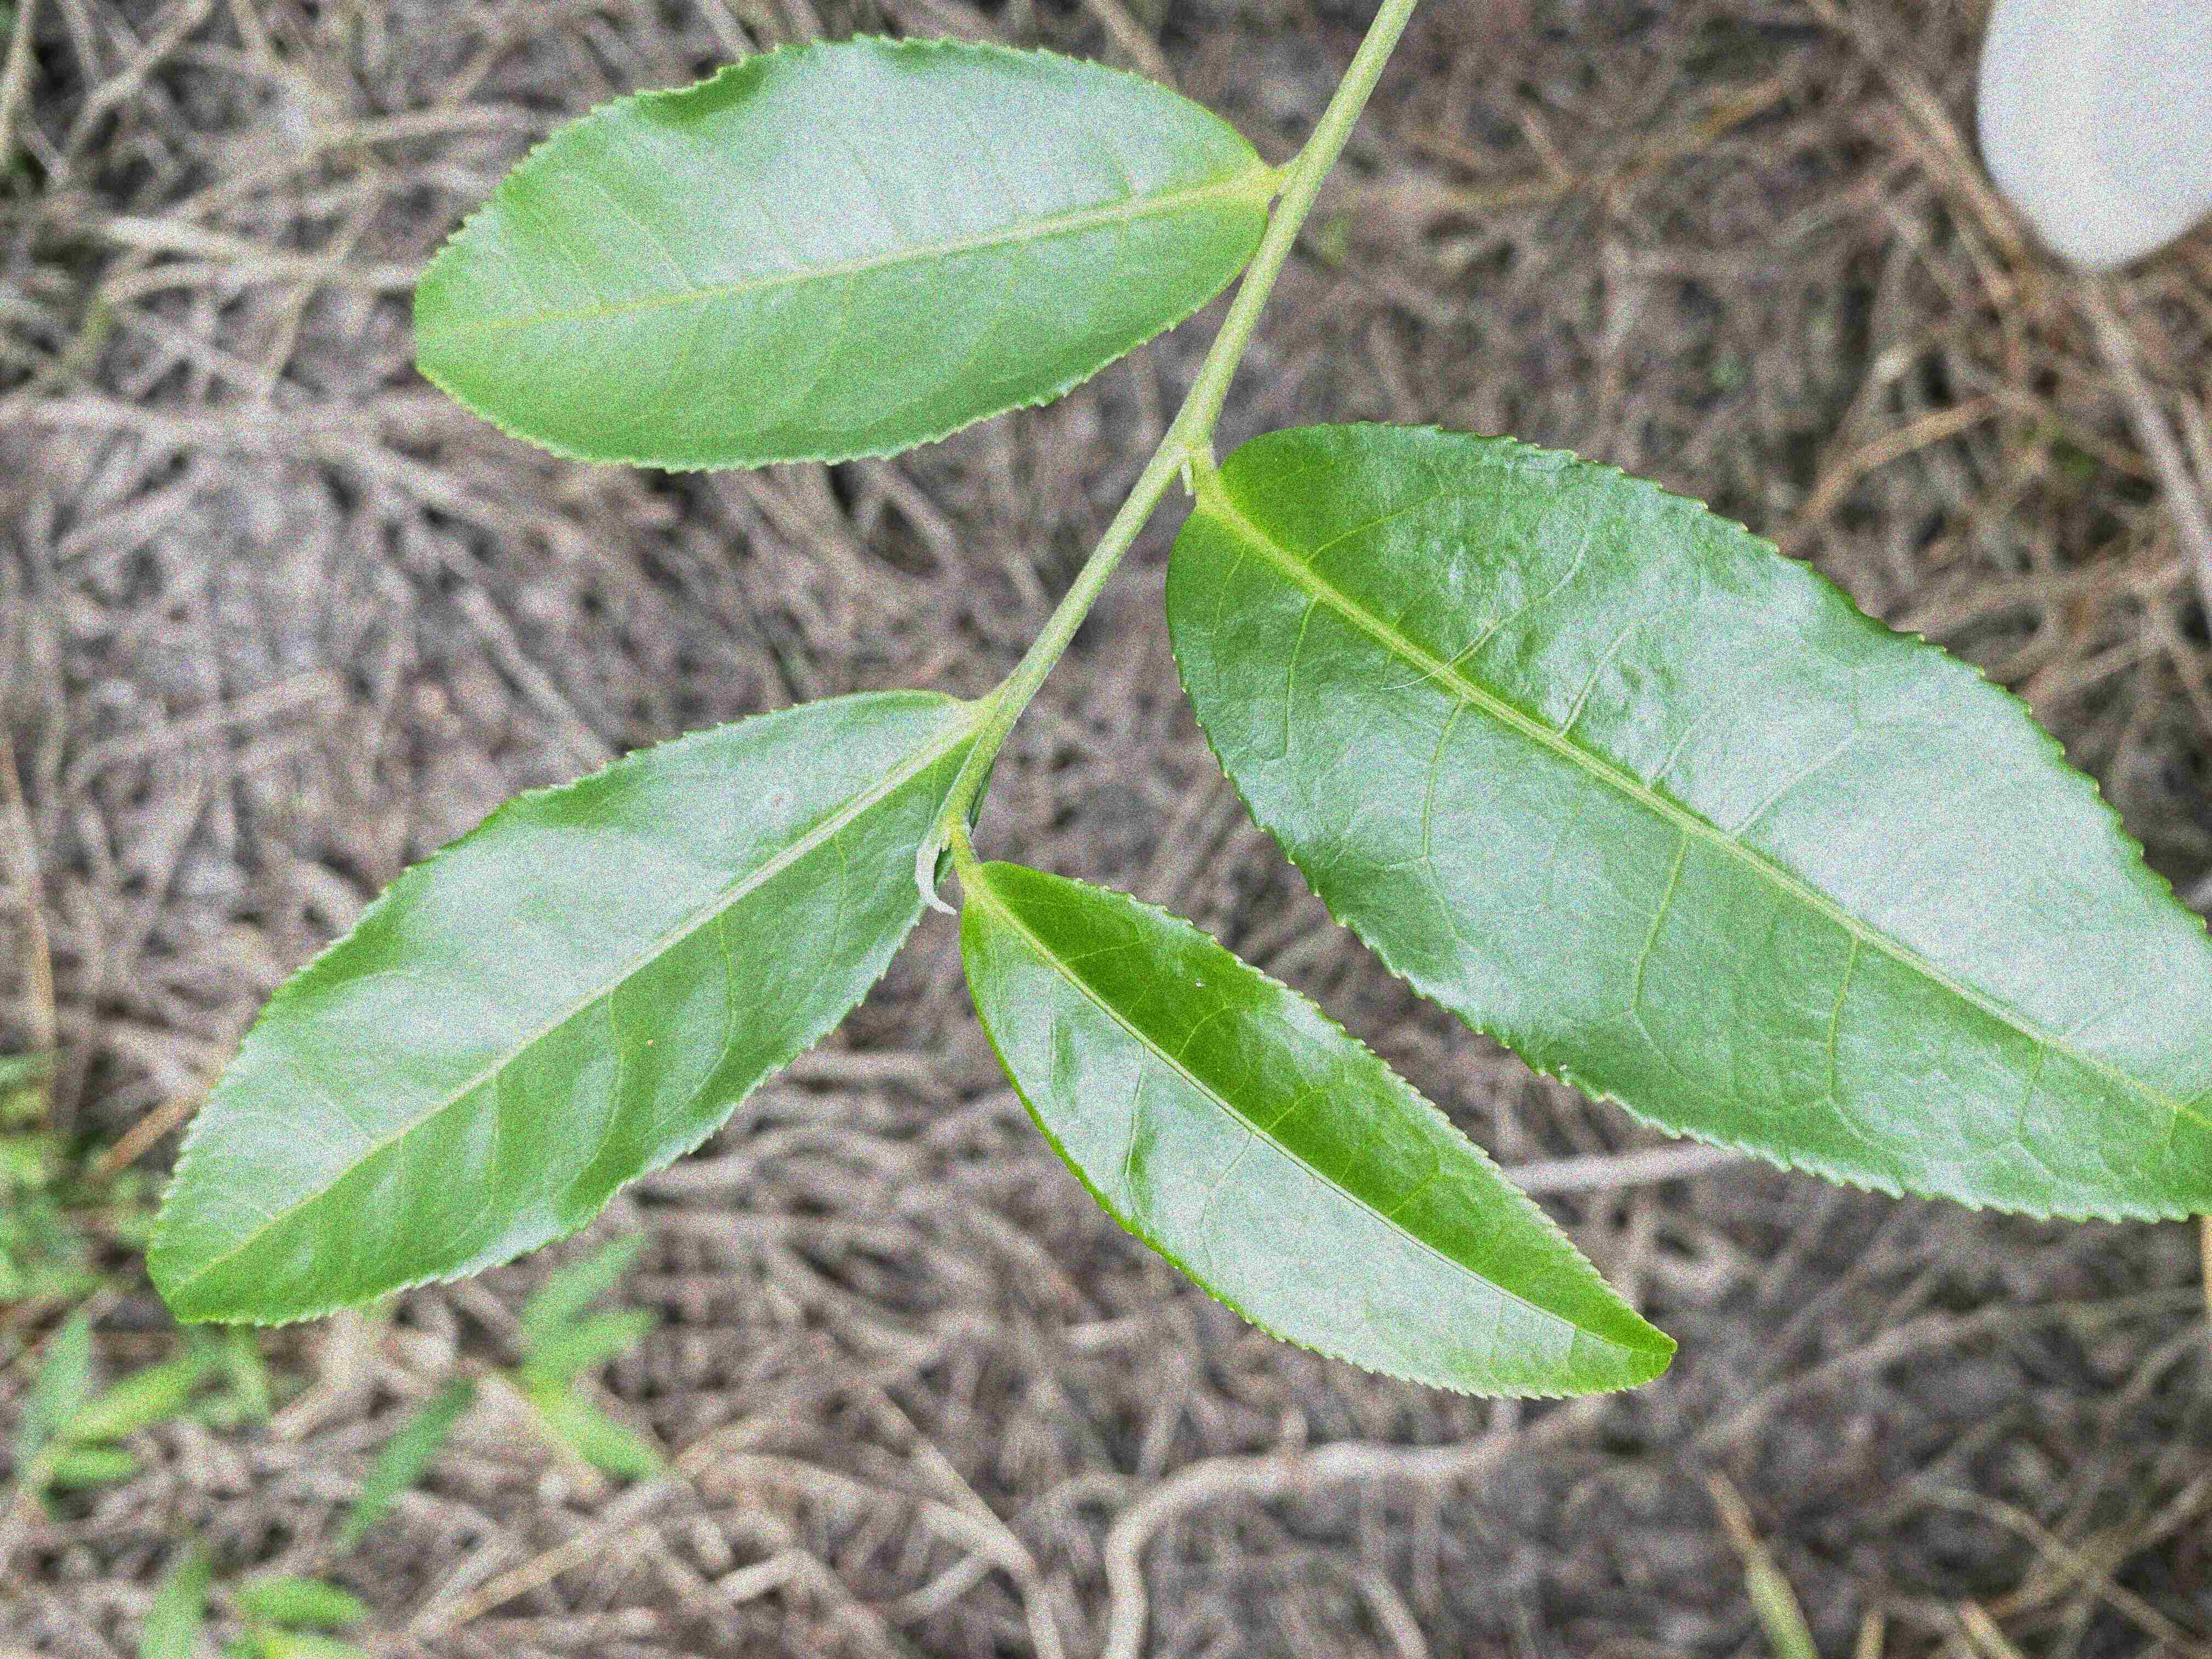healthy: (1163, 415, 2209, 1225), (958, 854, 1679, 1405), (409, 35, 1270, 474)
tanju_low: (143, 694, 975, 1328)
